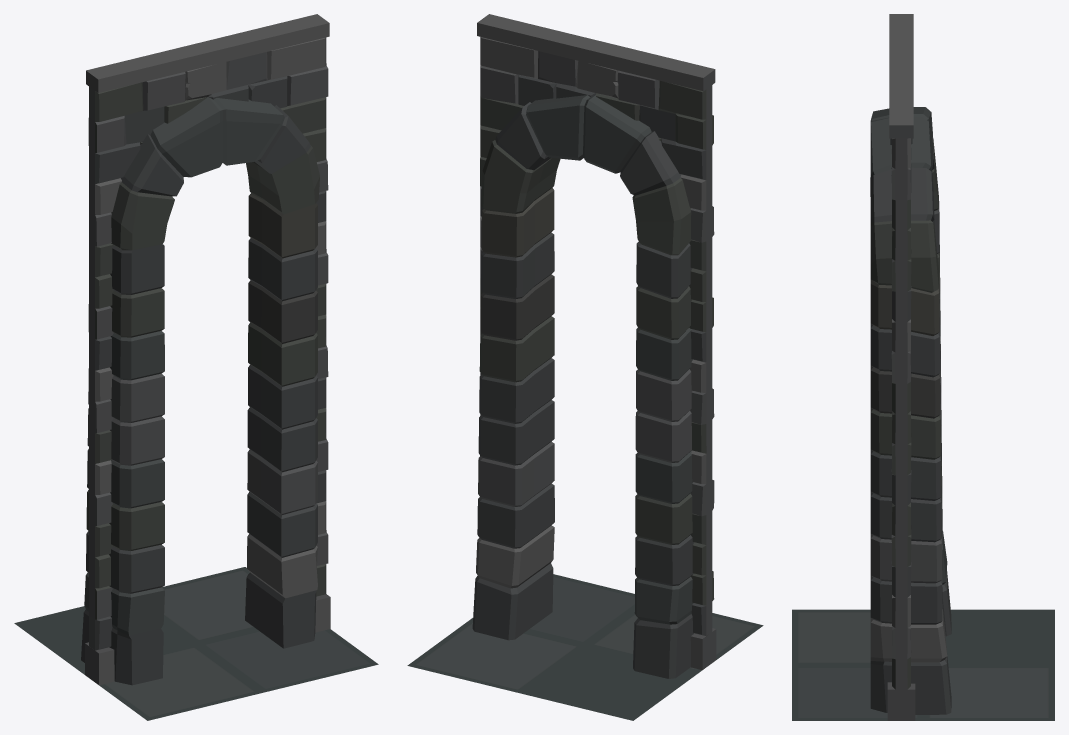
Rendered from Dungeon_Tilemap_Door_Open.fbx.
3 views of the same model, side by side, from view 1: azimuth 30°, elevation 25°; view 2: azimuth 150°, elevation 25°; view 3: azimuth 270°, elevation 25° (orthographic). The views are drawn at different scales.
Visible parts, largest first — view 1: Dungeon_Tilemap_Door_Open; view 2: Dungeon_Tilemap_Door_Open; view 3: Dungeon_Tilemap_Door_Open.
Boxes of the visible parts, x1=… form: Dungeon_Tilemap_Door_Open: x1=14, y1=14, x2=378, y2=720; Dungeon_Tilemap_Door_Open: x1=407, y1=14, x2=763, y2=720; Dungeon_Tilemap_Door_Open: x1=792, y1=14, x2=1054, y2=720.
Bounding box in the file's own units: 100 × 250 × 100.
